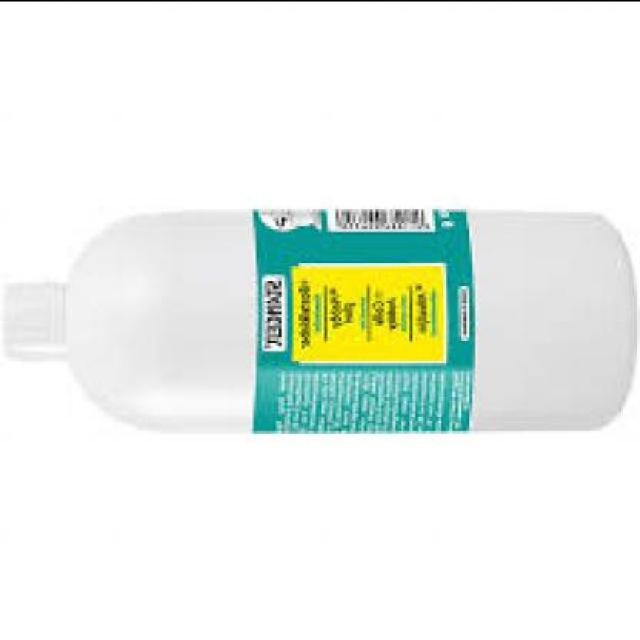PLASTIC: (0, 204, 635, 430), (3, 276, 63, 358)
